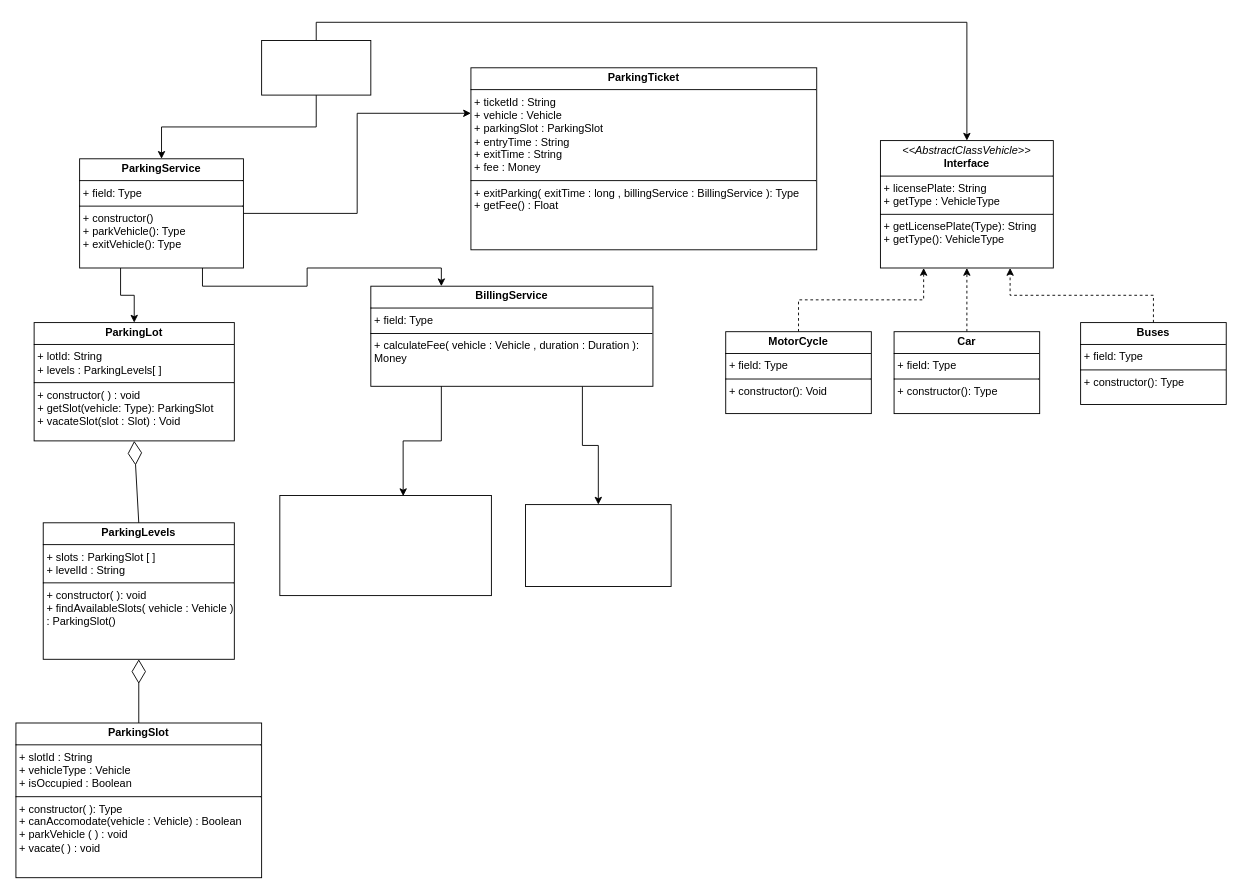
Image size: 1242x894. Some labels were removed from this diagram. The box of each missing label's shape, as (x1, y1, x2, y2) in pixels:
Client: (261, 40, 371, 95)
Duration + entryTime: Type + exitTime : Type + calculateDurationInHours(): Type: (279, 495, 491, 596)
Money + amount: Float + getAmount (): Float: (525, 504, 671, 586)
